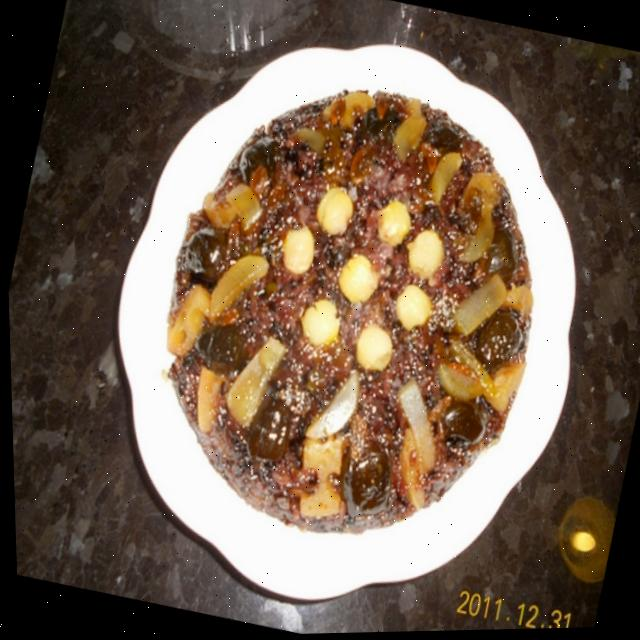米饭主食: (70, 1, 622, 628)
